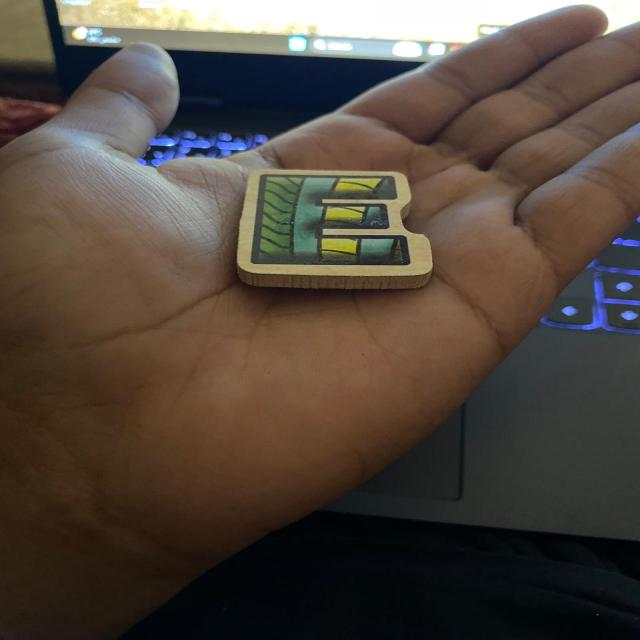E: (237, 171, 432, 289)
